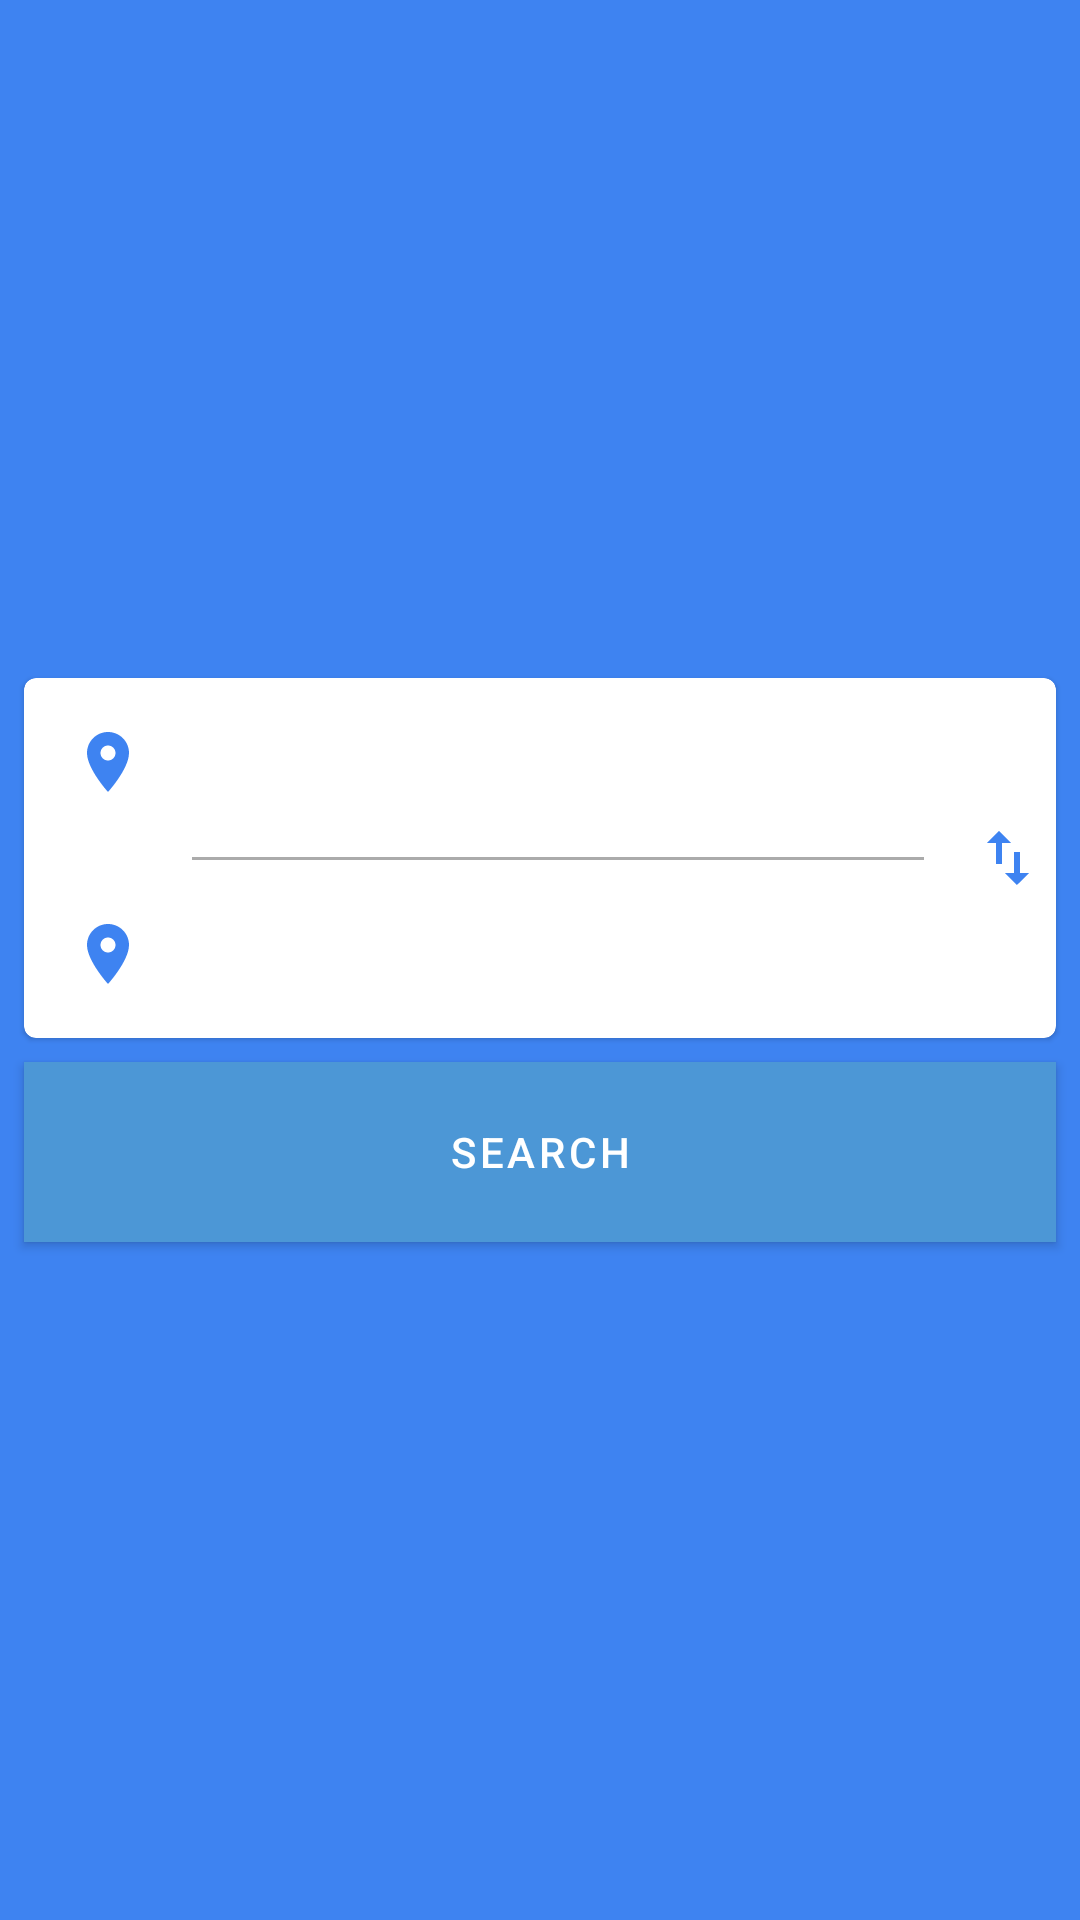

Named icons in this screenshot (1080 x 1920) and their bounding boxes, (x1, y1, x2, y2):
Swap button: (987, 831, 1029, 885)
